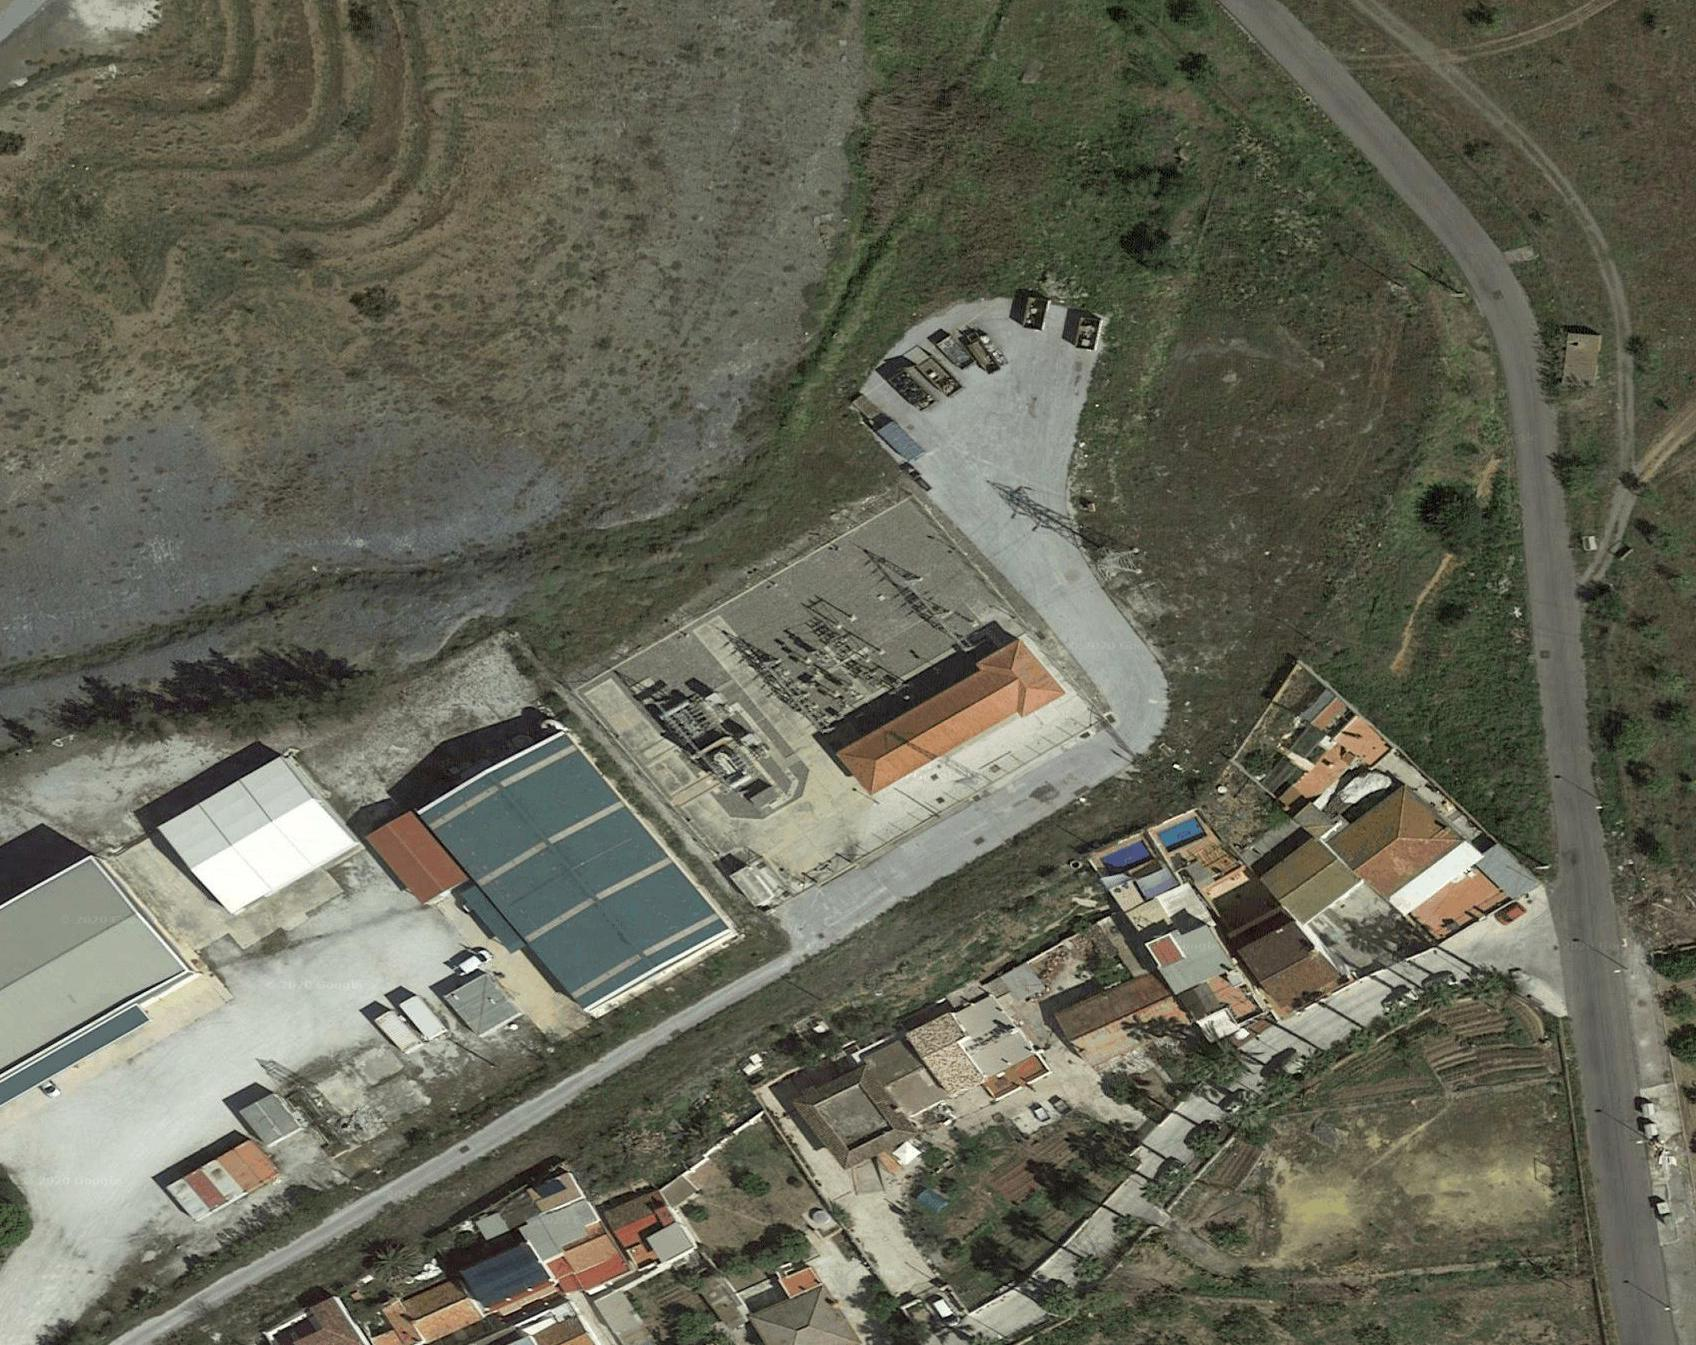substation: (630, 536, 983, 816)
